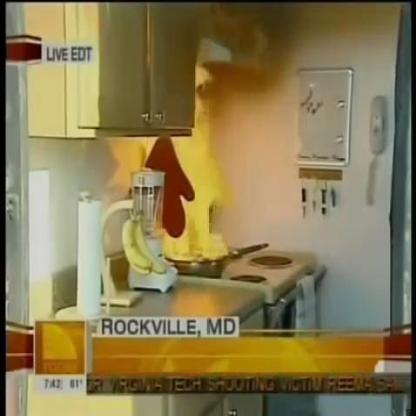fire: (153, 67, 239, 264)
